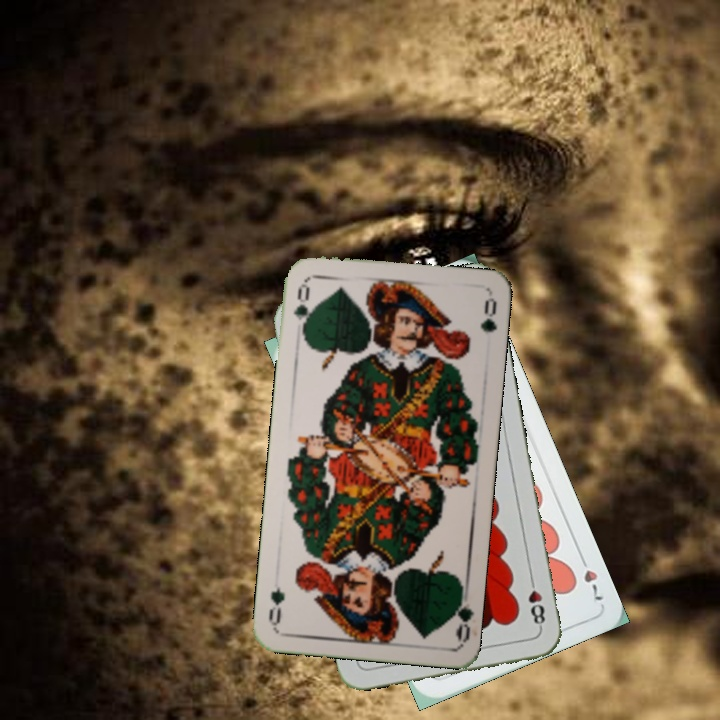GO: (447, 583, 475, 643), (289, 278, 315, 337)
H7: (574, 549, 606, 603)
H8: (524, 573, 548, 631)
